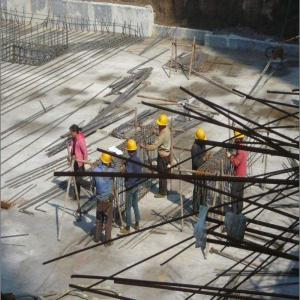none: (70, 124, 81, 139)
yellow: (195, 130, 208, 148), (126, 139, 138, 157), (100, 152, 113, 168), (158, 116, 169, 133), (235, 129, 246, 146)
